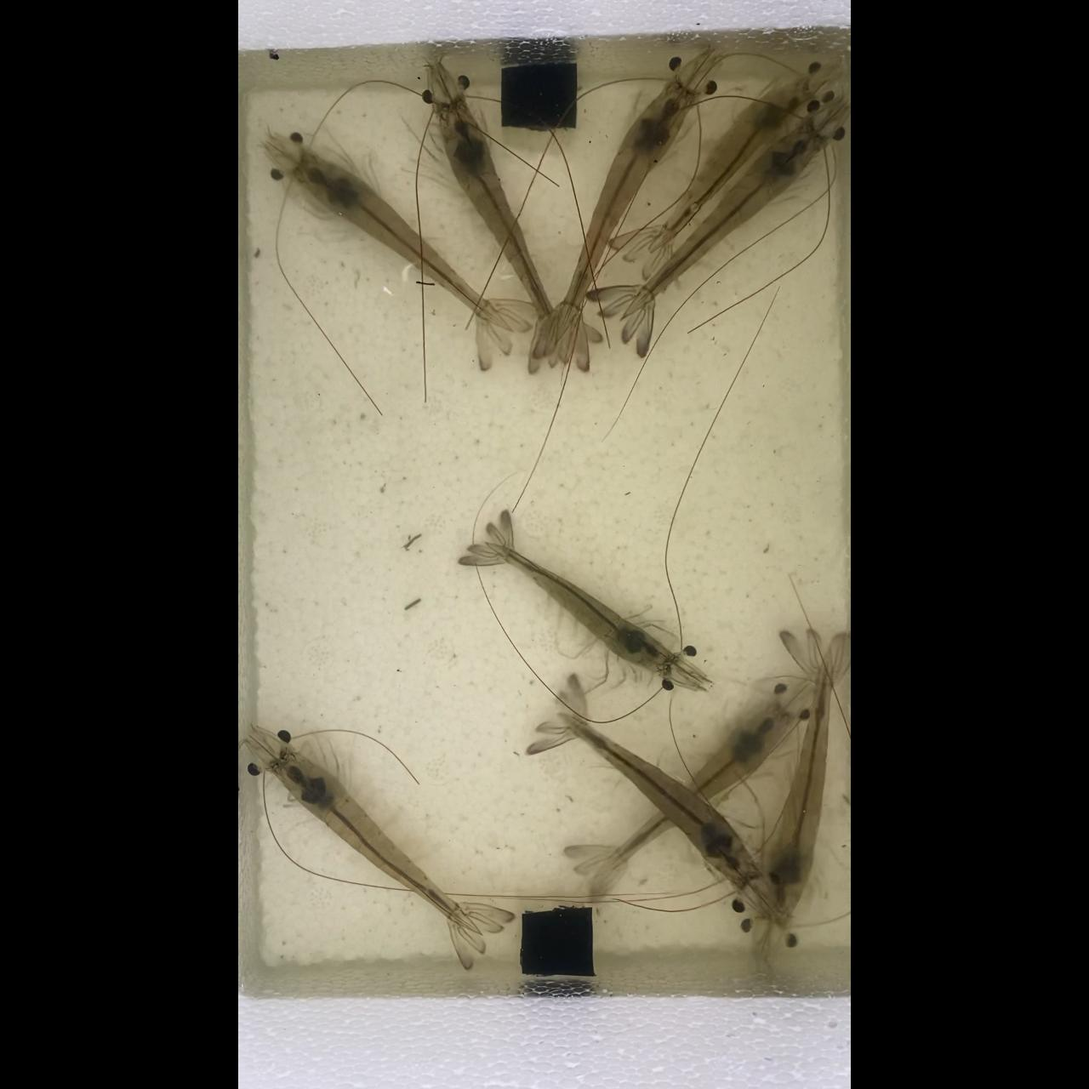box: (501, 61, 577, 131), (521, 906, 594, 977)
top_shrimp: (301, 154, 513, 334), (622, 127, 817, 322), (274, 752, 480, 933), (551, 86, 687, 342), (558, 713, 755, 885), (602, 708, 791, 874), (442, 105, 563, 348), (485, 542, 669, 671), (650, 94, 796, 252), (758, 649, 832, 924)
